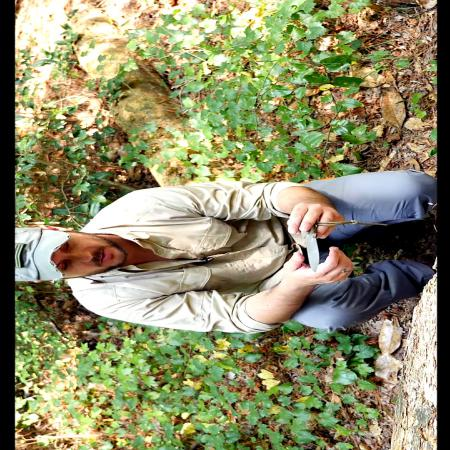long weapon: (281, 198, 341, 276)
